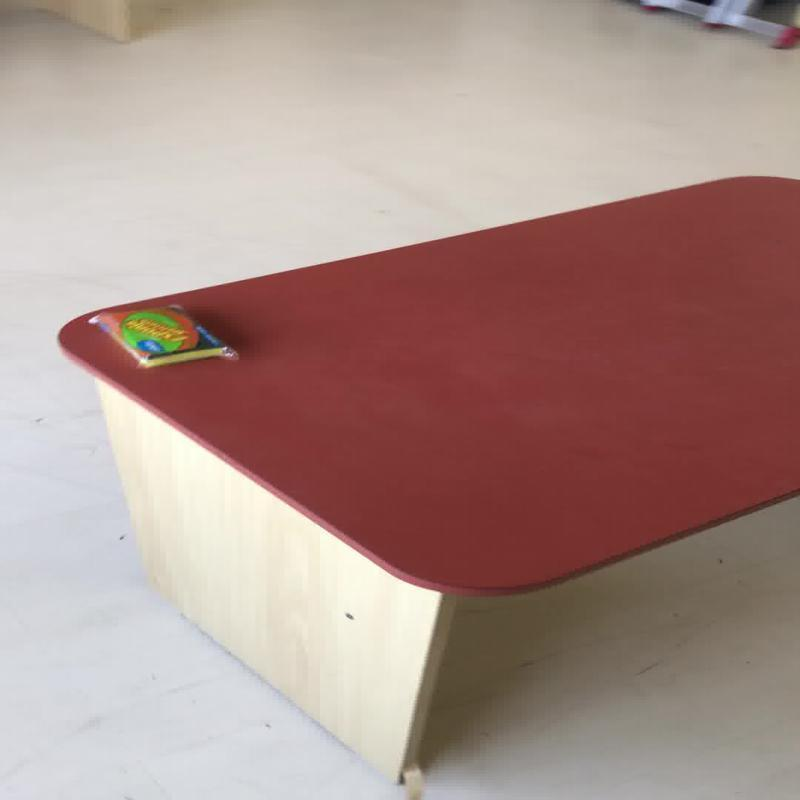sponge: (88, 302, 238, 368)
